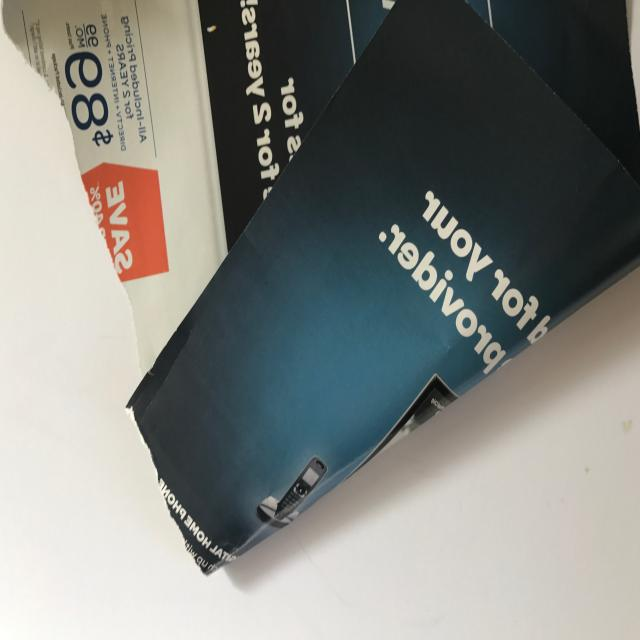paper: (0, 0, 640, 577)
